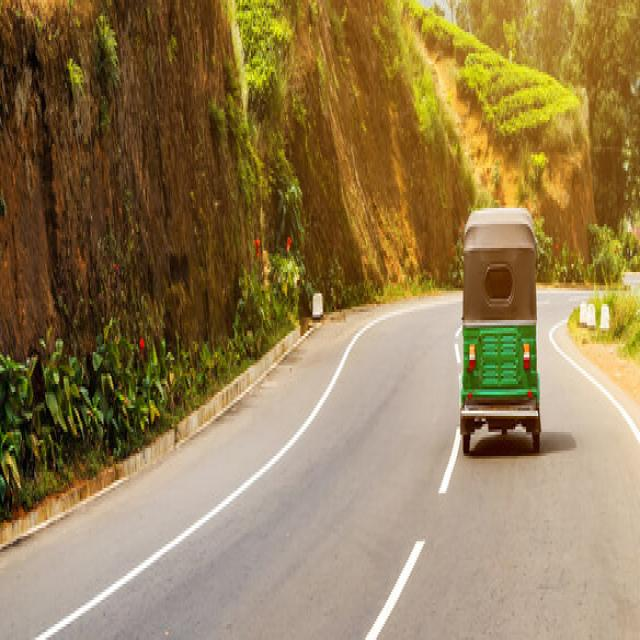three wheeler: (460, 208, 540, 456)
